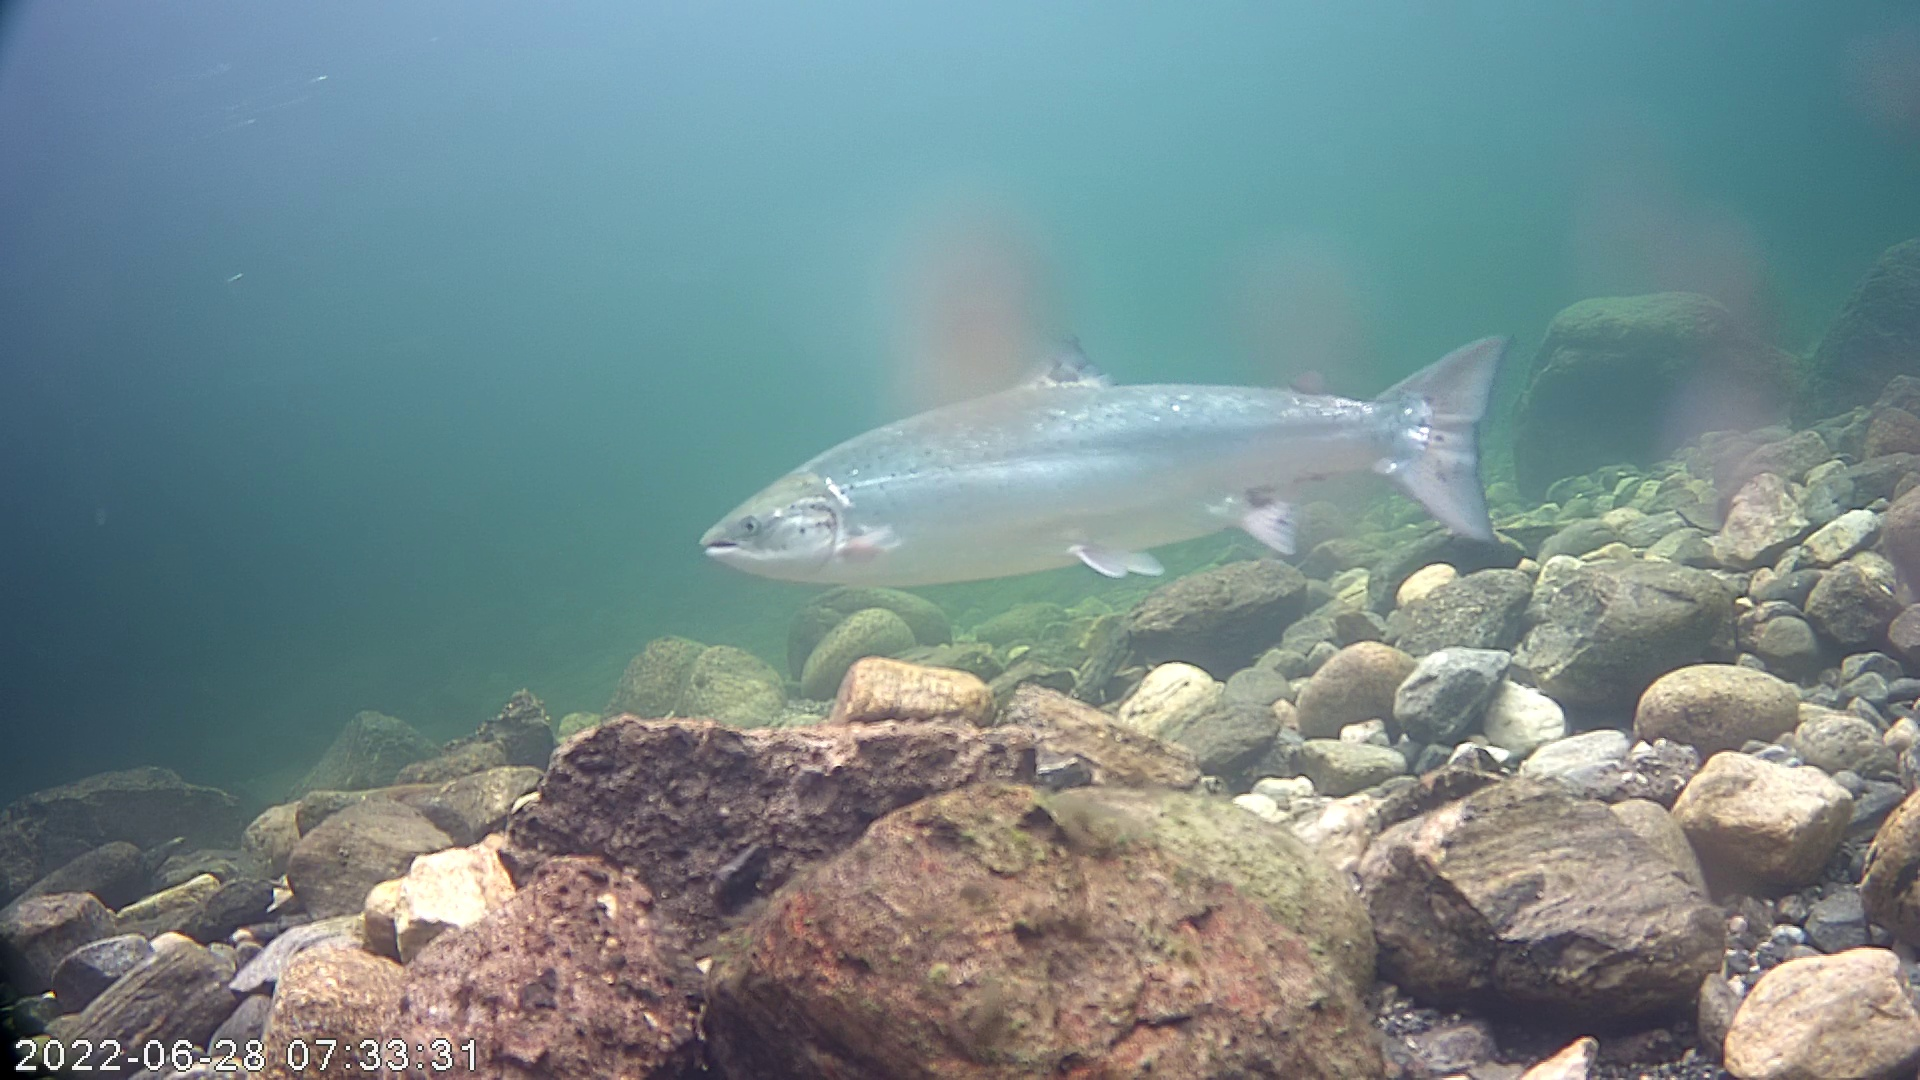salmon: (694, 215, 1538, 647)
